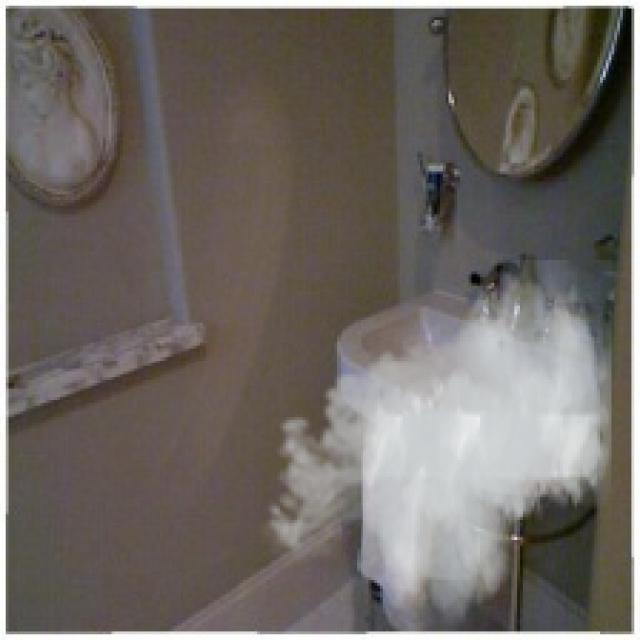Smoke: (257, 259, 612, 632)
